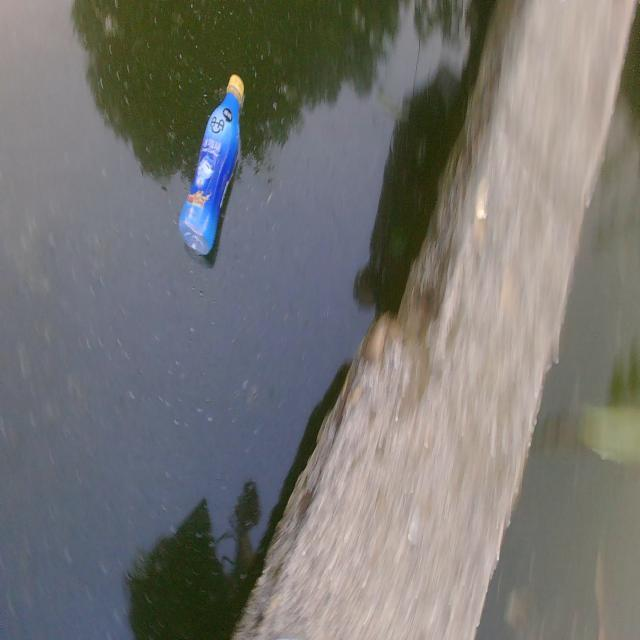bottle: (160, 59, 257, 274)
